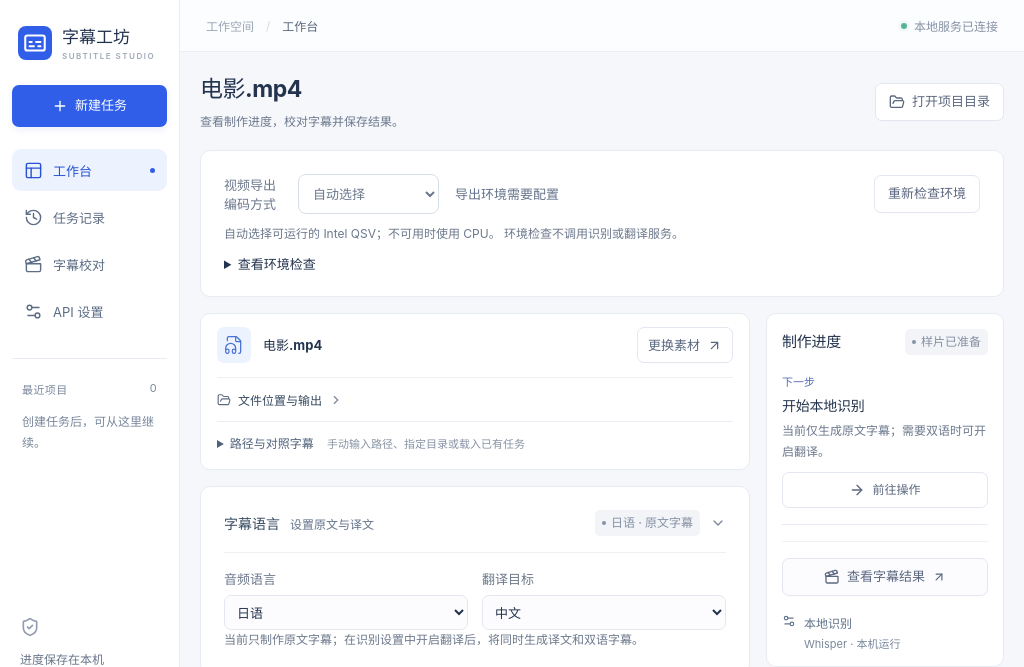
Test case: 桌面工作台的真实操作边界 › acknowledges opening immediately with the returned selectable path and copies it without a state refresh
Click the button "打开项目目录" at (940, 102), box [875,83,1004,121]
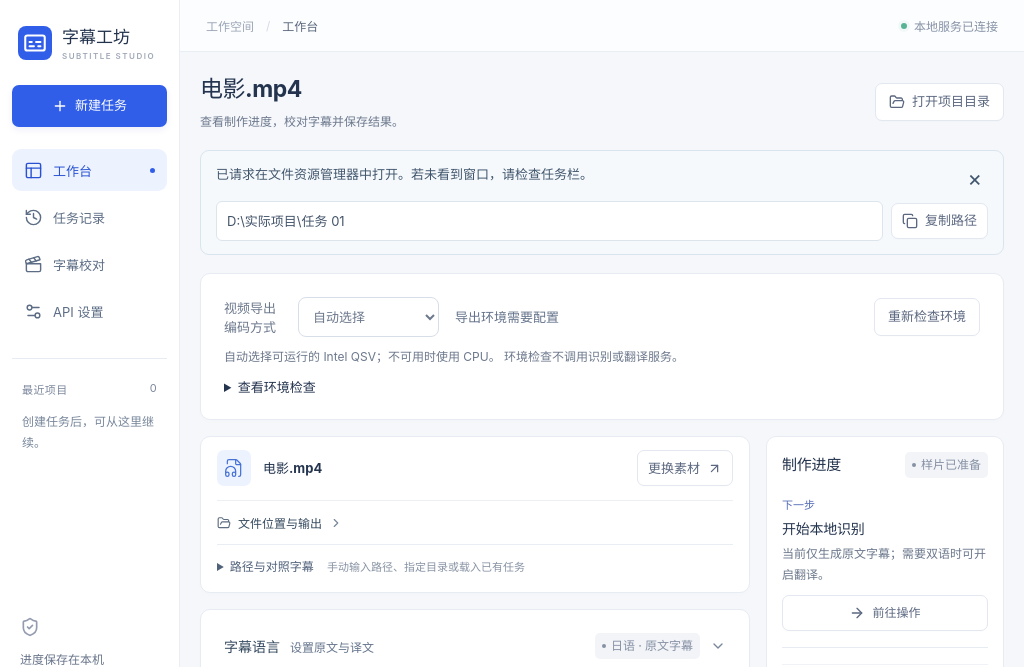
Expected: the message named "打开位置反馈" shows "已请求在文件资源管理器中打开", [216,166,593,182]
Expected: the message named "打开位置反馈" shows "任务栏", [200,150,1004,255]
Expected: the field named "打开位置路径" holds "D:\\实际项目\\任务 01", [216,201,883,241]
Click the button "复制路径" at (940, 221), box [891,203,988,239]
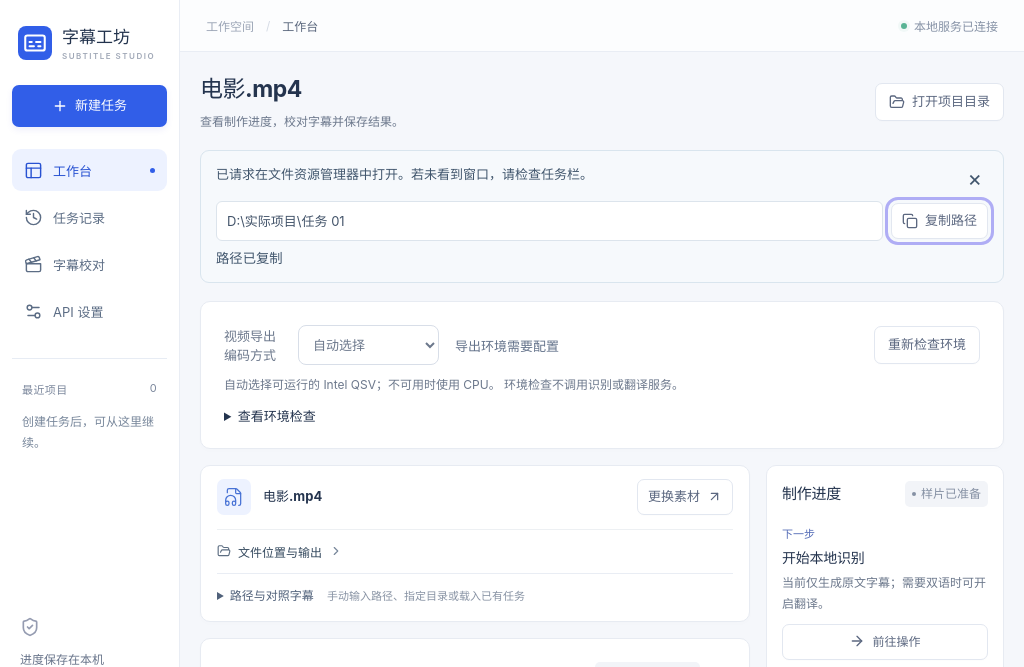
Expected: the message named "打开位置反馈" shows "路径已复制", [216,250,283,266]
